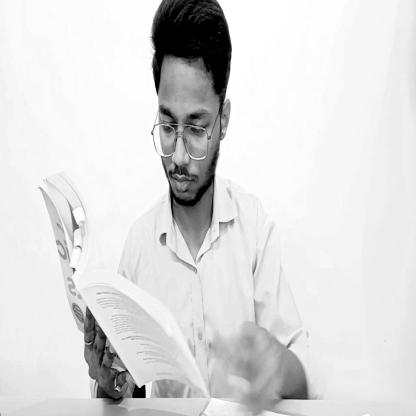Distracted: (148, 4, 237, 213)
